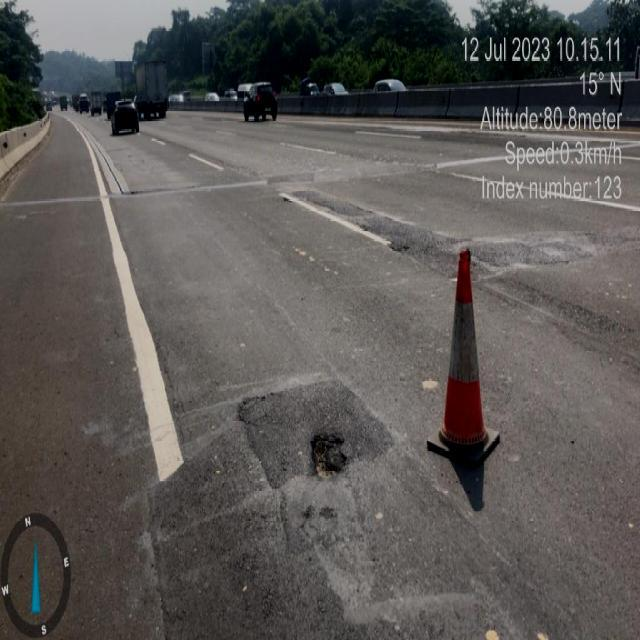Buraco: (307, 430, 350, 483)
